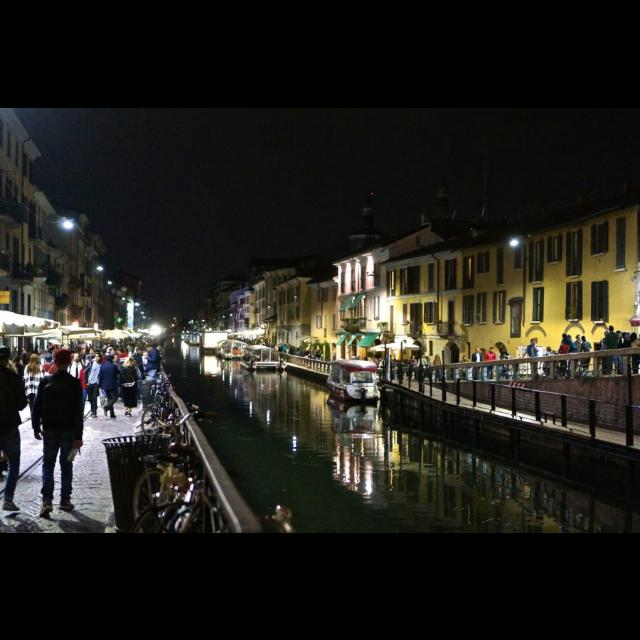head: (54, 348, 74, 369), (0, 344, 12, 368), (30, 354, 40, 364), (144, 342, 154, 352), (95, 352, 104, 362), (106, 354, 115, 364), (74, 352, 82, 362), (126, 357, 134, 365), (616, 330, 624, 338), (137, 346, 143, 354), (630, 333, 638, 339), (609, 325, 615, 331), (622, 332, 628, 338), (581, 336, 587, 342), (576, 335, 582, 341), (562, 334, 568, 340), (531, 338, 537, 344), (604, 330, 610, 336), (490, 347, 494, 353), (476, 346, 480, 352), (464, 356, 468, 360), (436, 354, 440, 358), (422, 354, 426, 358), (412, 355, 416, 359), (390, 354, 392, 358)
person: (29, 348, 87, 518), (0, 343, 30, 512), (23, 352, 49, 434), (63, 352, 89, 422), (82, 350, 108, 420), (96, 353, 122, 419), (117, 356, 141, 418), (142, 341, 164, 405), (558, 333, 582, 379), (518, 338, 542, 380), (602, 324, 620, 376), (132, 346, 148, 402), (577, 334, 593, 376), (618, 331, 632, 374), (572, 334, 586, 376), (483, 345, 499, 381), (614, 329, 626, 375), (599, 330, 611, 376), (471, 346, 484, 380), (416, 352, 430, 382), (458, 354, 472, 382), (432, 352, 444, 382), (408, 354, 420, 382), (388, 353, 394, 371)
